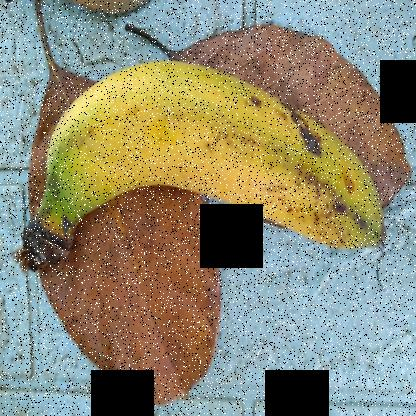ripe: (28, 44, 391, 290)
